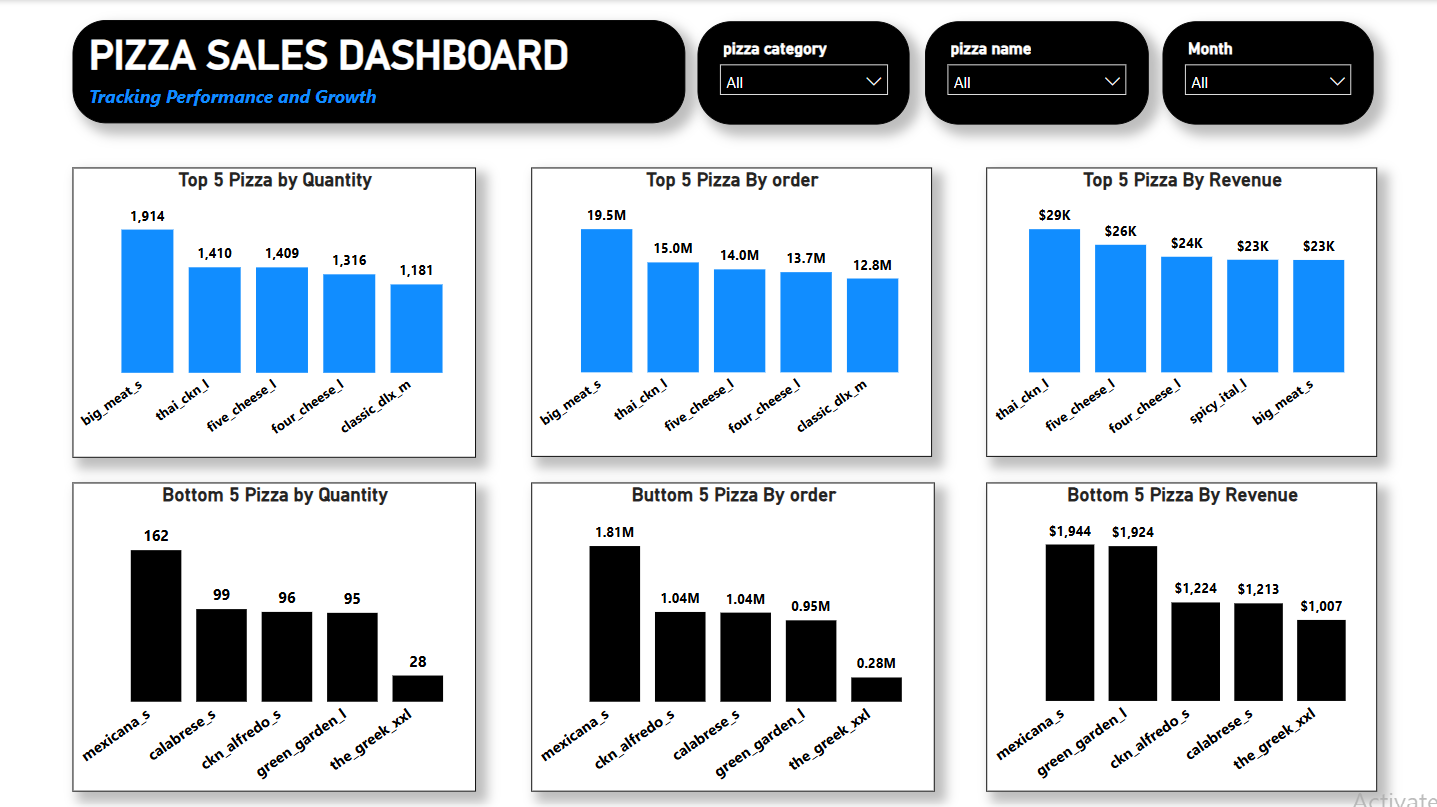

What the dashboard file says about the page in this screenshot:
{"tool":"powerbi","page":{"name":"Page 2","canvas":[1280,720],"ordinal":1},"visuals":[{"type":"clusteredColumnChart","title":"Top 5 Pizza by Quantity","fields":{"Category":["pizza_sales.pizza_name_id"],"Y":["Sum(pizza_sales.quantity)"]},"box":[64.5,149.1,359.4,258.2],"z":0},{"type":"clusteredColumnChart","title":"Bottom 5 Pizza by Quantity","fields":{"Category":["pizza_sales.pizza_name_id"],"Y":["Sum(pizza_sales.quantity)"]},"box":[64.4,429.1,359.2,275.6],"z":1},{"type":"clusteredColumnChart","title":"Top 5 Pizza By order","fields":{"Category":["pizza_sales.pizza_name_id"],"Y":["Sum(pizza_sales.order_id)"]},"box":[473,149.4,356.5,257.8],"z":2},{"type":"clusteredColumnChart","title":"Buttom 5 Pizza By order","fields":{"Y":["Sum(pizza_sales.order_id)"],"Category":["pizza_sales.pizza_name_id"]},"box":[473,429.1,359.2,275.6],"z":3},{"type":"clusteredColumnChart","title":"Top 5 Pizza By Revenue","fields":{"Category":["pizza_sales.pizza_name_id"],"Y":["Sum(pizza_sales.total_price)"]},"box":[877.5,149.4,348.2,257.8],"z":4},{"type":"clusteredColumnChart","title":"Bottom 5 Pizza By Revenue","fields":{"Category":["pizza_sales.pizza_name_id"],"Y":["Sum(pizza_sales.total_price)"]},"box":[878,429.6,348.3,274.9],"z":5},{"type":"textbox","title":"PIZZA SALES DASHBOARD","box":[64.5,17.8,545.3,92.4],"z":6},{"type":"slicer","fields":{"Values":["pizza_sales.order_date.Variation.Date Hierarchy.Month"]},"box":[1034.9,18.9,188.1,92.4],"z":7},{"type":"slicer","fields":{"Values":["pizza_sales.pizza_category"]},"box":[621,18.9,189.2,92.4],"z":8},{"type":"slicer","fields":{"Values":["pizza_sales.pizza_name"]},"box":[823.5,18.9,199.2,92.4],"z":9}]}

Visuals, with their boxes in screenshot pixels (x1, y1, x2, y2), scaled from the page's 1280x720 canvas onto the 1437x807 screenshot:
"Top 5 Pizza by Quantity" clusteredColumnChart: bbox(72, 167, 476, 457)
"Bottom 5 Pizza by Quantity" clusteredColumnChart: bbox(72, 481, 476, 790)
"Top 5 Pizza By order" clusteredColumnChart: bbox(531, 167, 931, 456)
"Buttom 5 Pizza By order" clusteredColumnChart: bbox(531, 481, 934, 790)
"Top 5 Pizza By Revenue" clusteredColumnChart: bbox(985, 167, 1376, 456)
"Bottom 5 Pizza By Revenue" clusteredColumnChart: bbox(986, 482, 1377, 790)
"PIZZA SALES DASHBOARD" textbox: bbox(72, 20, 685, 124)
slicer - pizza_sales.order_date.Variation.Date Hierarchy.Month: bbox(1162, 21, 1373, 125)
slicer - pizza_sales.pizza_category: bbox(697, 21, 910, 125)
slicer - pizza_sales.pizza_name: bbox(925, 21, 1148, 125)
